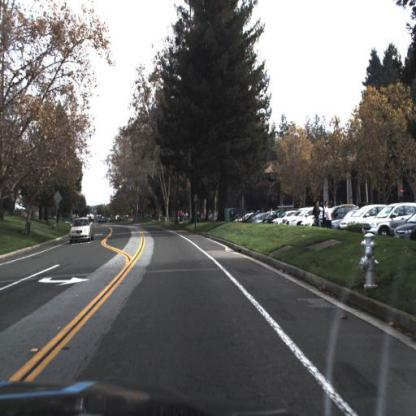car: (363, 203, 416, 239), (340, 202, 384, 231), (69, 214, 94, 245), (285, 206, 313, 229)
pedestrian: (313, 198, 323, 230), (327, 200, 336, 232), (320, 196, 328, 229), (175, 202, 186, 225)
